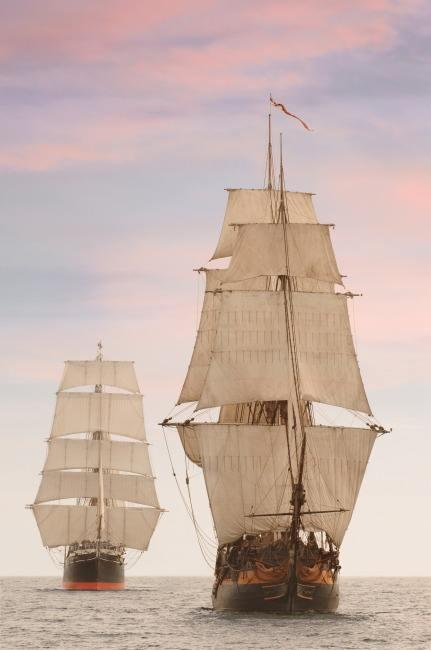fanchuan: (166, 88, 382, 614), (25, 347, 160, 592)
